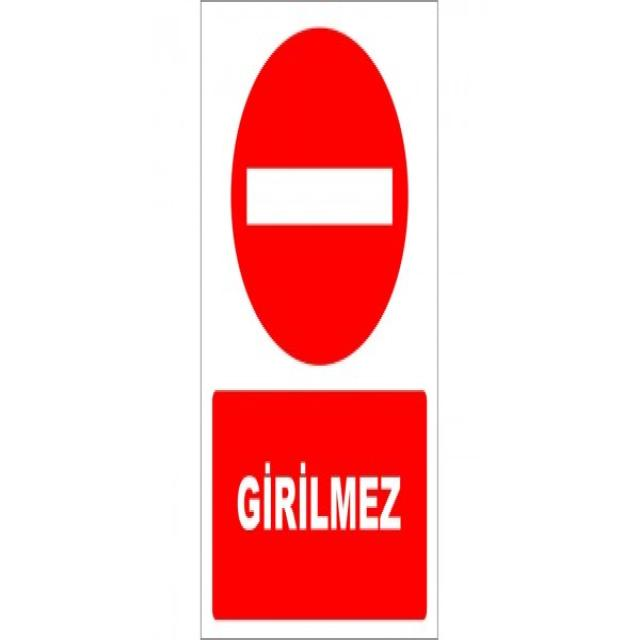Sens-Interdit: (229, 26, 411, 370)
